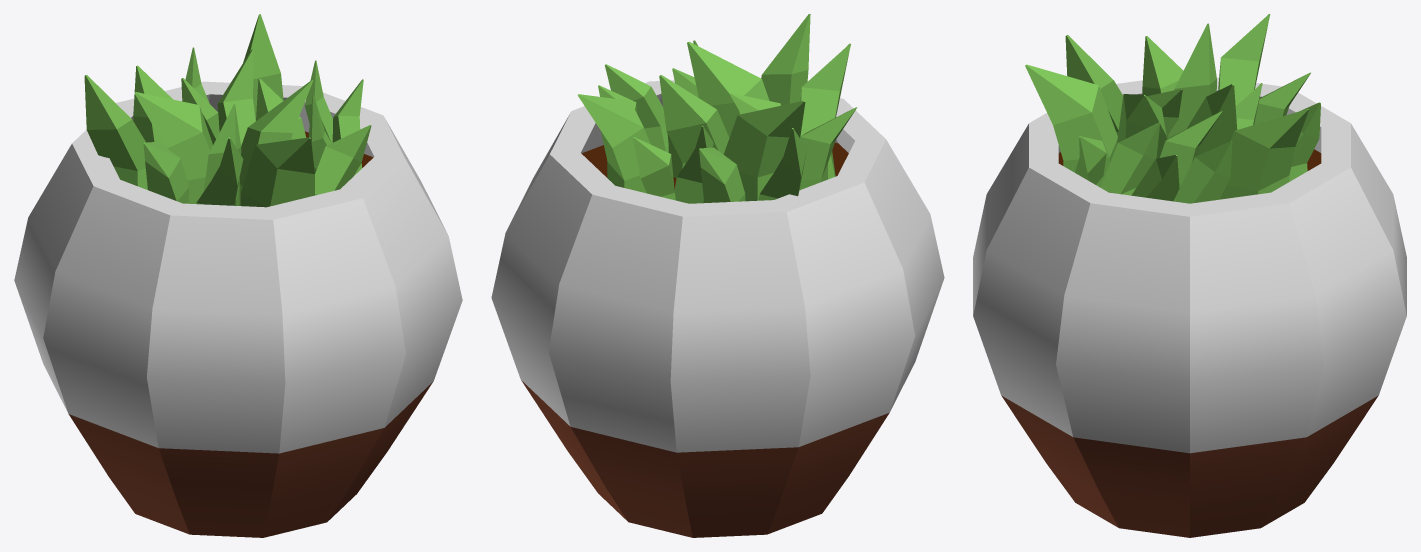
The model's file is Kamerplant4.fbx.
The picture shows the model from 3 angles, left to right: view 1: azimuth 30°, elevation 25°; view 2: azimuth 150°, elevation 25°; view 3: azimuth 270°, elevation 25°; orthographic projection.
Visible parts, largest first — view 1: Kamerplant4; view 2: Kamerplant4; view 3: Kamerplant4.
Boxes of the visible parts, x1,y1,x2,y2 form: Kamerplant4: (14,14,462,537); Kamerplant4: (491,14,944,537); Kamerplant4: (973,14,1406,537).
Size of the model in its own units: 2.3 by 2.33 by 2.18.
